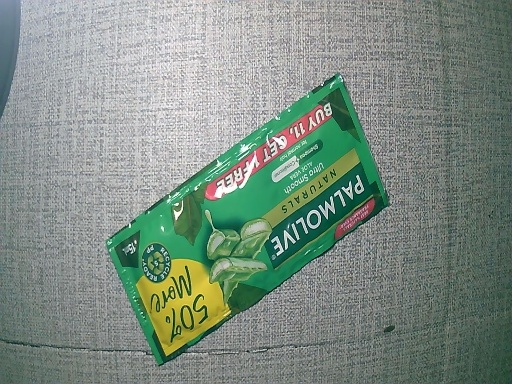plastic: (105, 76, 391, 369)
